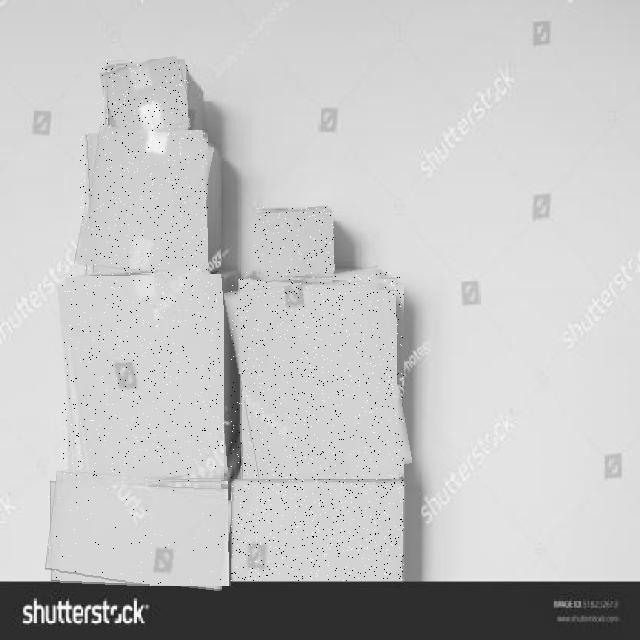BoxFace: (231, 272, 404, 484), (62, 274, 224, 483), (47, 476, 231, 586), (80, 130, 208, 281), (231, 479, 404, 581), (102, 59, 188, 138), (254, 207, 334, 278)
